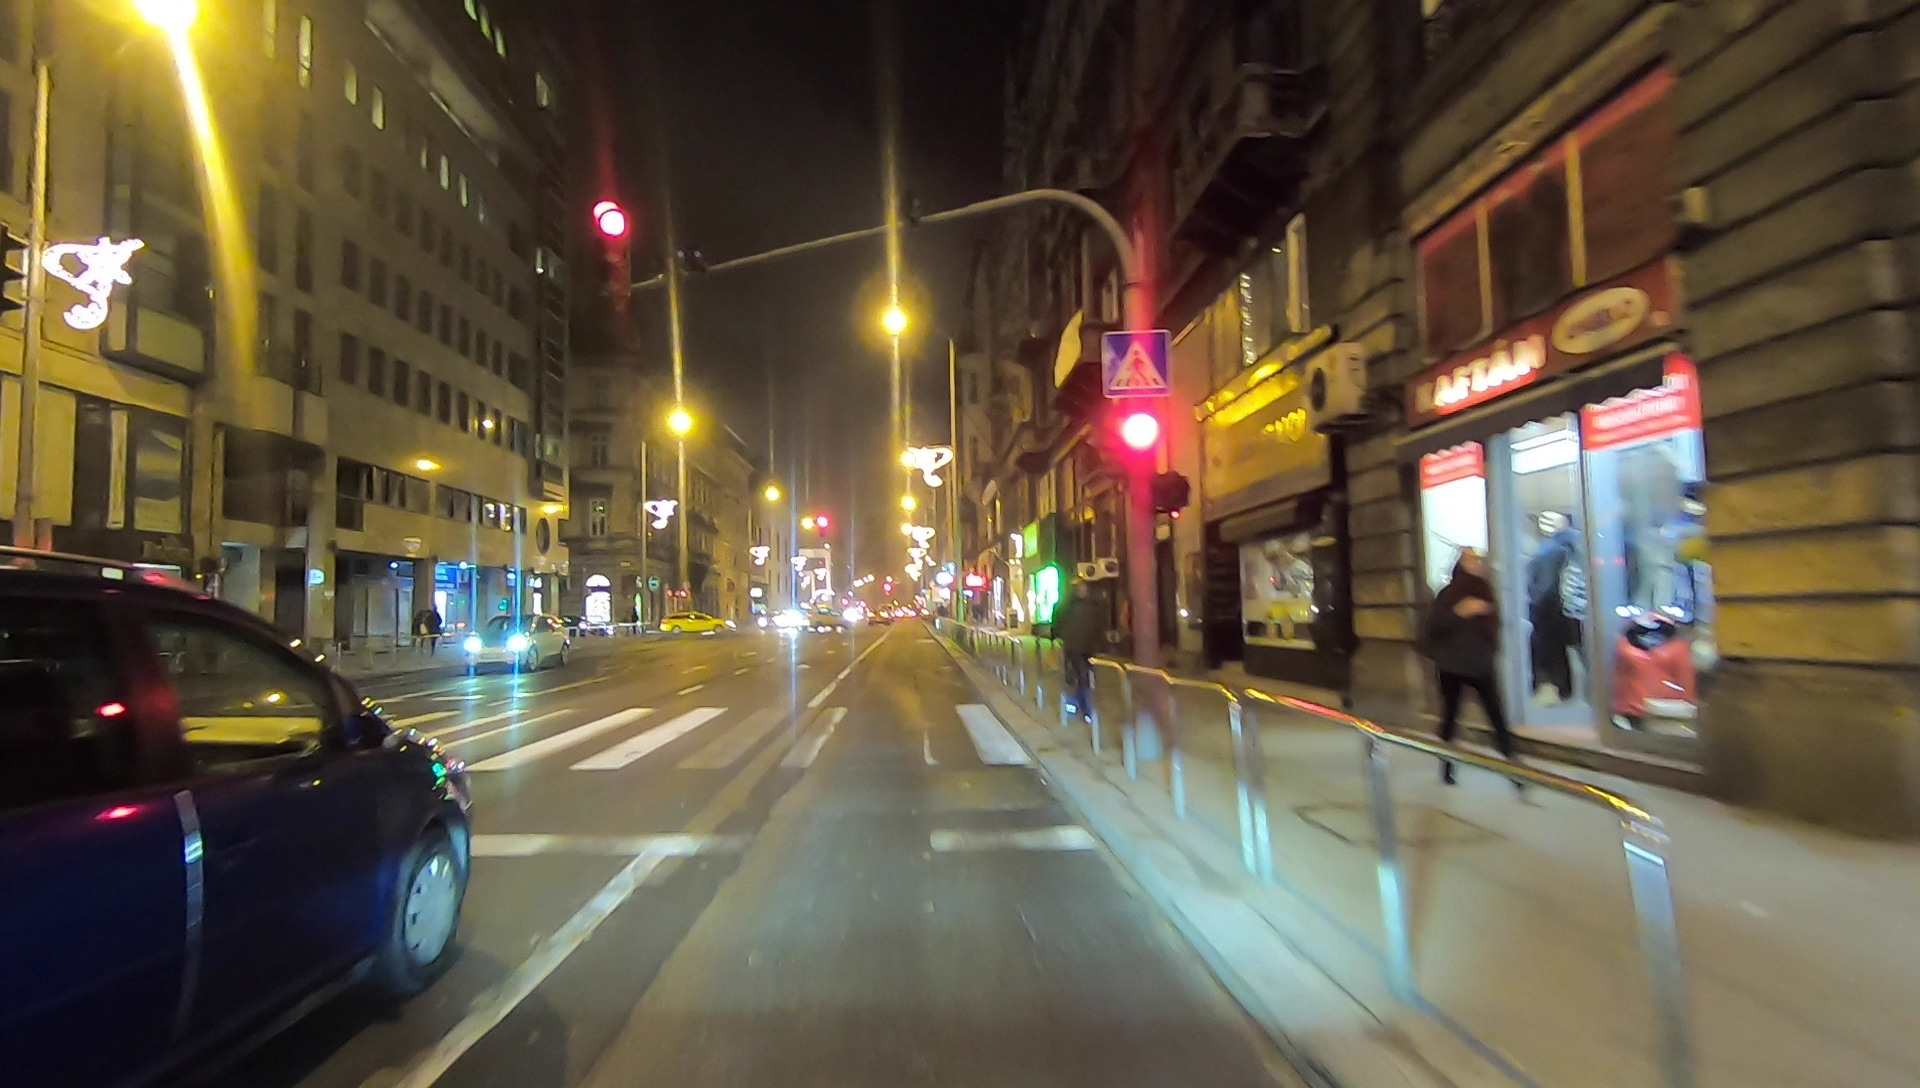person: (1425, 547, 1534, 797), (1051, 578, 1102, 724), (425, 606, 441, 654)
